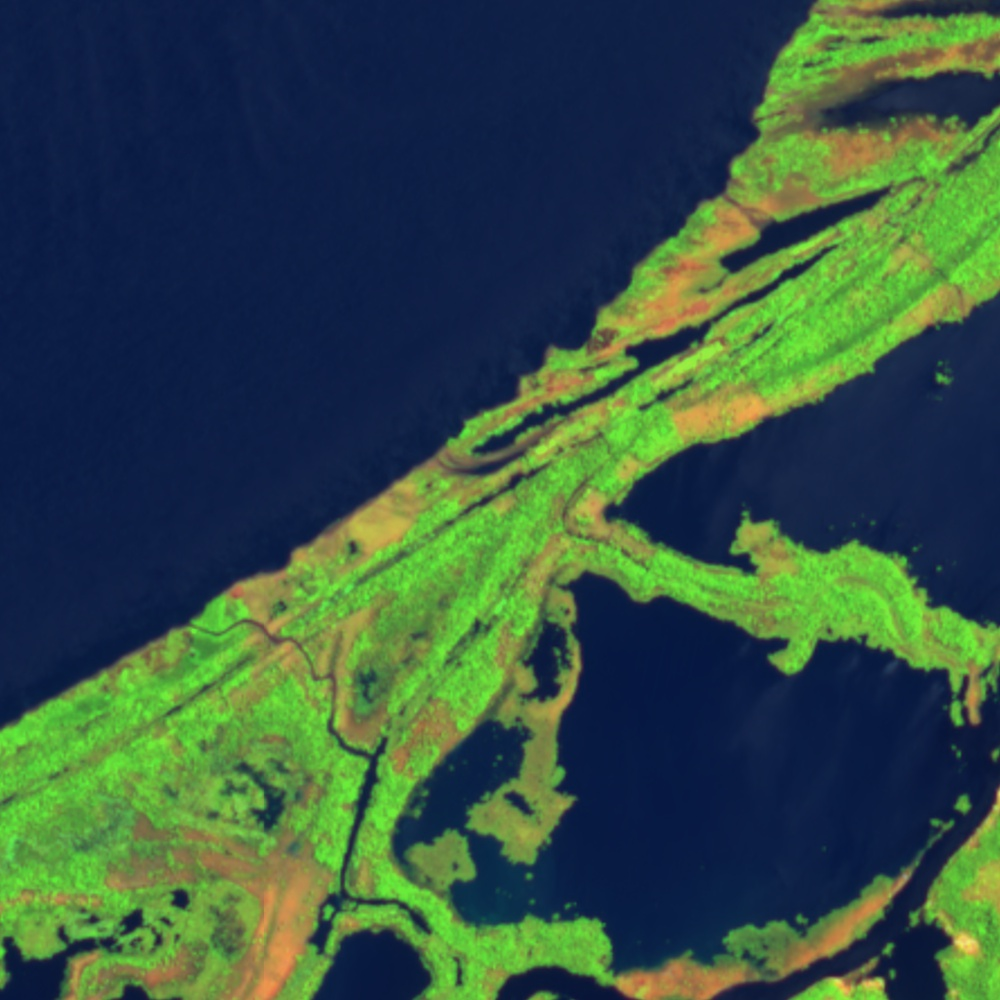legal: (1, 325, 591, 733), (590, 1, 1000, 502), (2, 725, 623, 1000), (623, 748, 1000, 999), (594, 500, 999, 725)
